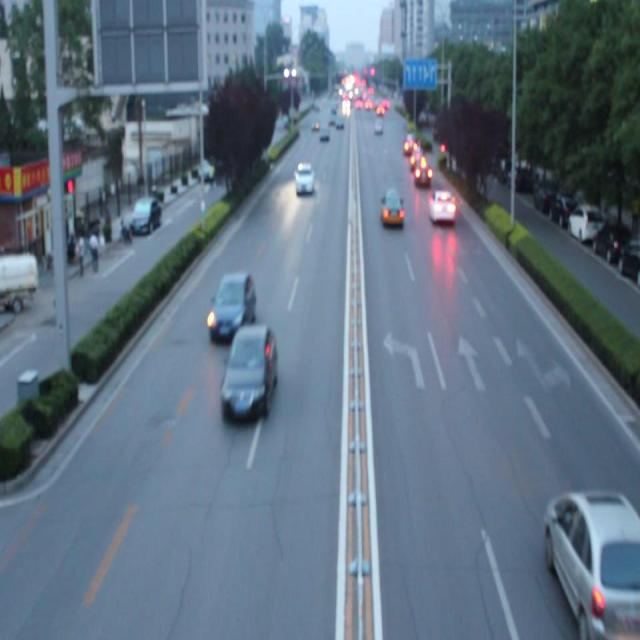car: (547, 486, 640, 640), (220, 322, 275, 419), (207, 269, 255, 339), (380, 189, 404, 226), (430, 187, 456, 221), (293, 162, 314, 195), (414, 159, 432, 184)
